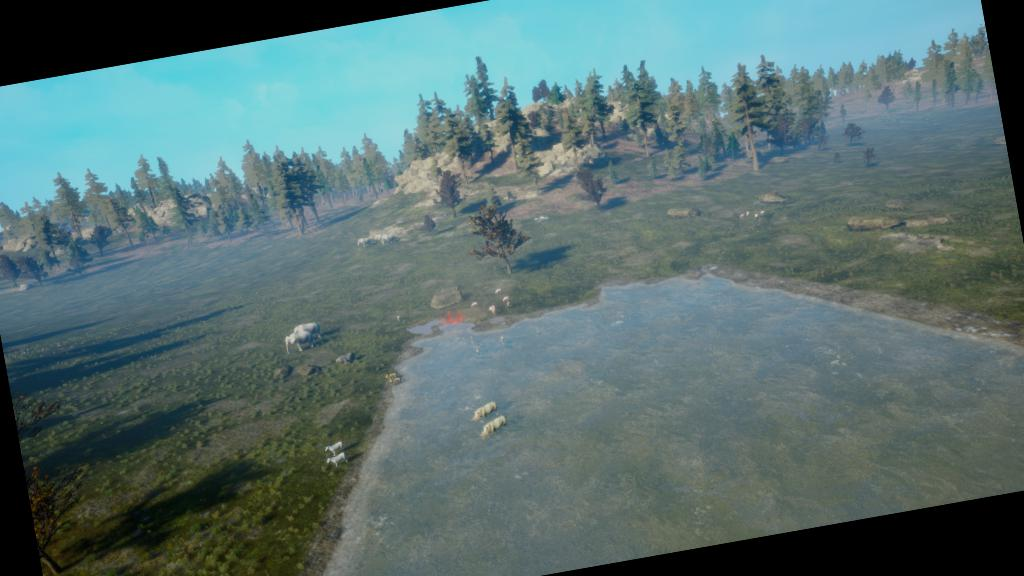Fire: (442, 310, 466, 326)
elephant: (262, 307, 340, 372)
pig: (464, 284, 522, 317), (382, 362, 406, 388)
rhinoceros: (466, 392, 512, 444)
zebra: (308, 438, 360, 486)
